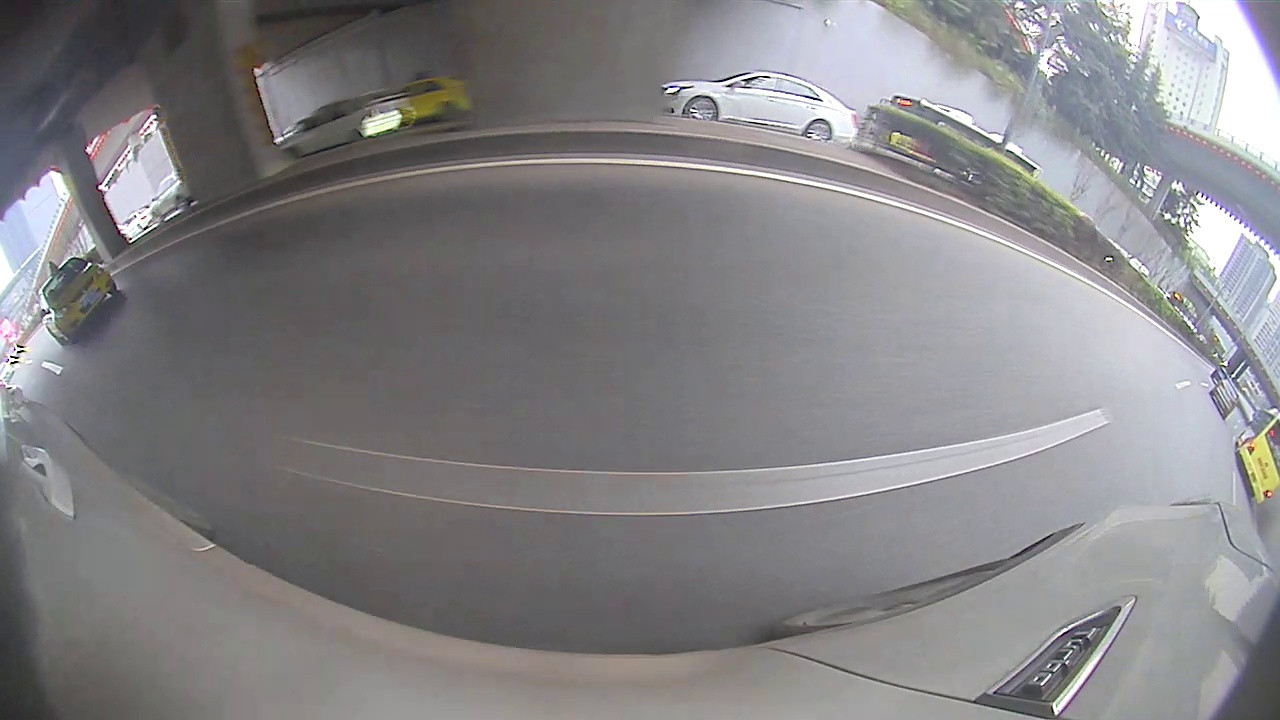bus: (1233, 409, 1277, 510)
car: (661, 70, 857, 143), (39, 260, 121, 343), (271, 99, 397, 153), (370, 78, 472, 129), (149, 177, 194, 220), (1211, 378, 1238, 420)
front: (682, 96, 720, 125)
rear: (804, 118, 834, 143)
